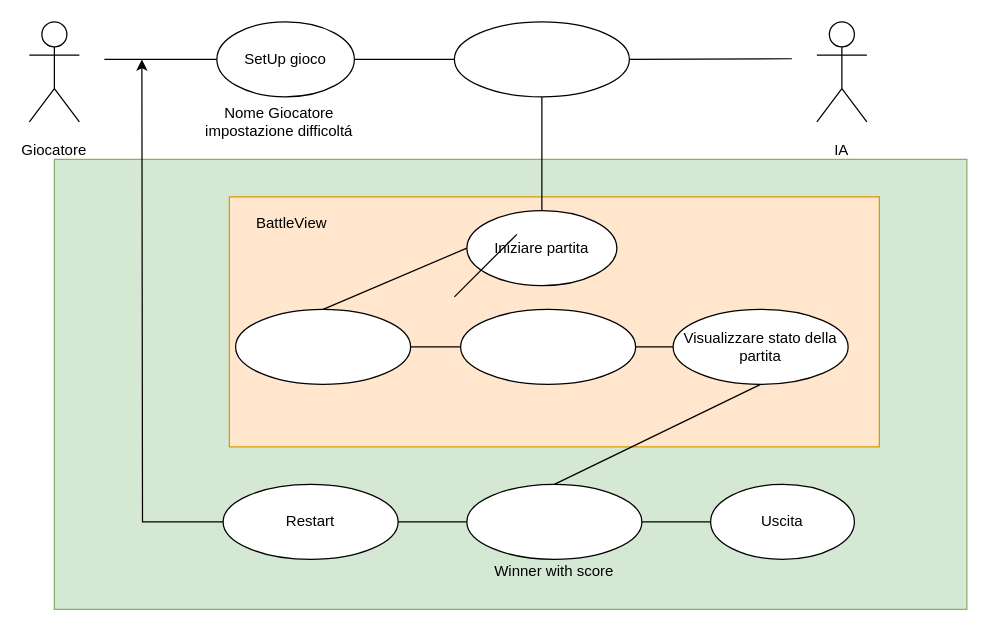
Image size: 989x631. Some labels were removed from this diagram. The box of each missing label's shape, as (x1, y1, x2, y2) in pixels:
Effettuare colpo: (234, 308, 411, 384)
Fine partita: (466, 483, 642, 559)
Posizionare navi: (453, 21, 629, 97)
Ricevere feedback su colpo: (459, 308, 636, 384)
